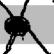not correct: (0, 2, 38, 48)
